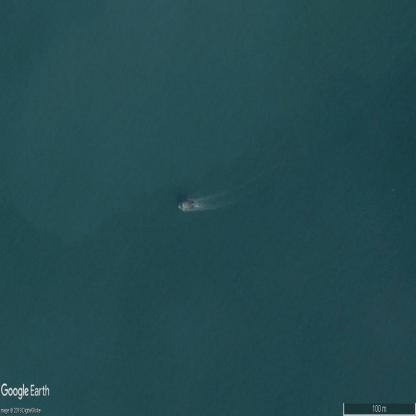ship: (178, 201, 193, 210)
